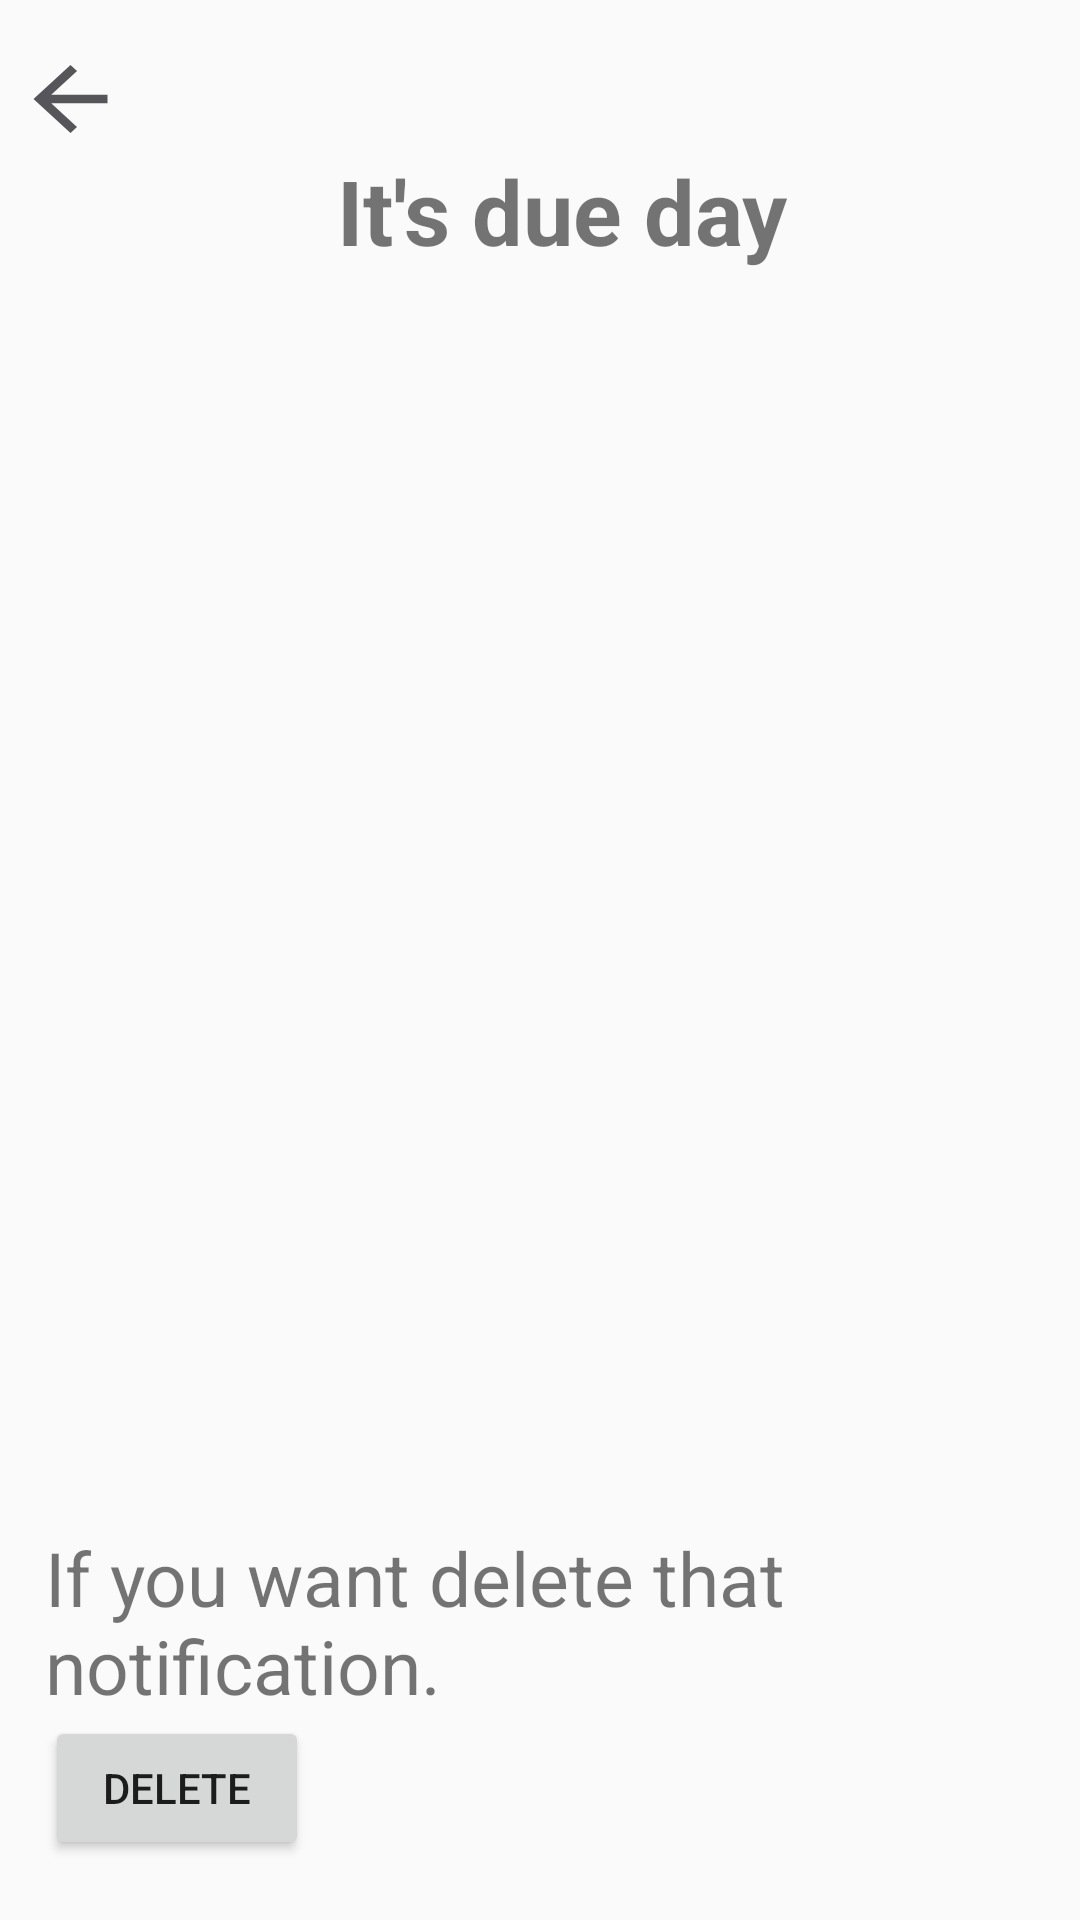

Locate icon controls on the screen. Image size 1080x1920, boxes as [x1, y1, x2, y2].
arrow back: [34, 65, 108, 133]
